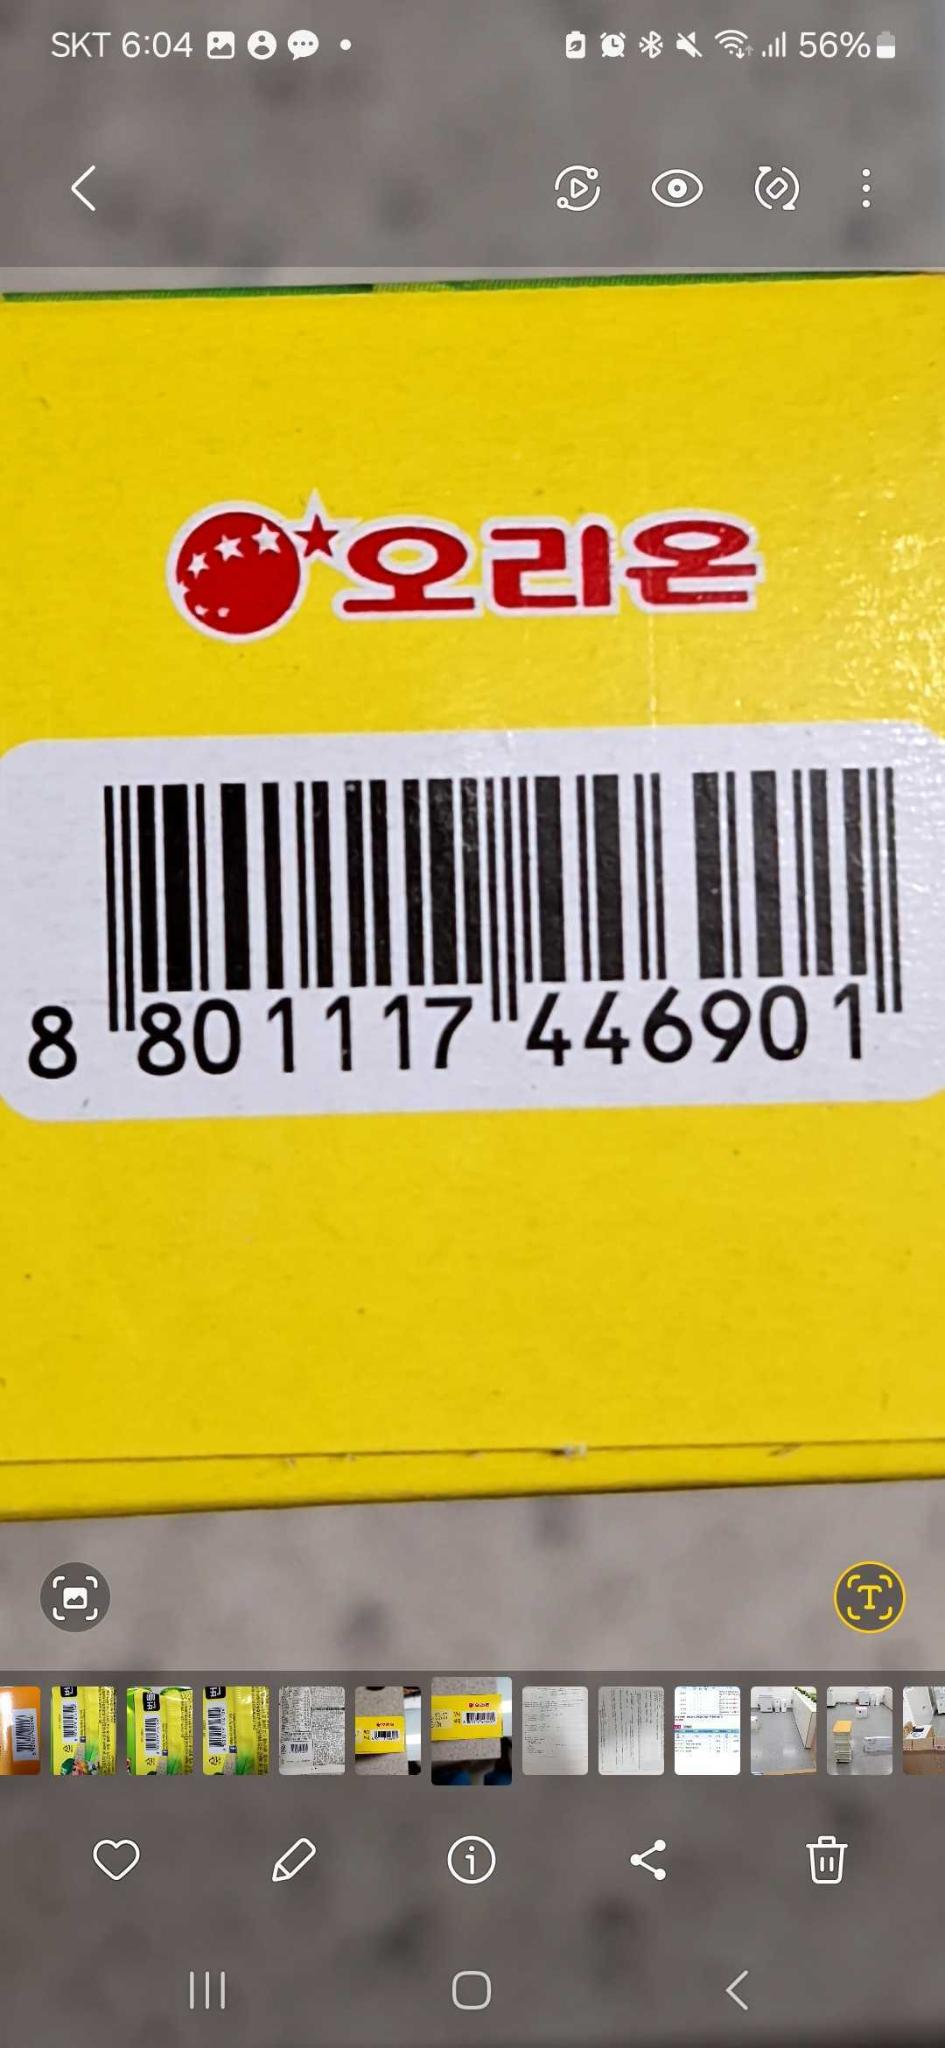chocomush-1200-2024-10-8: (0, 756, 945, 1100)
